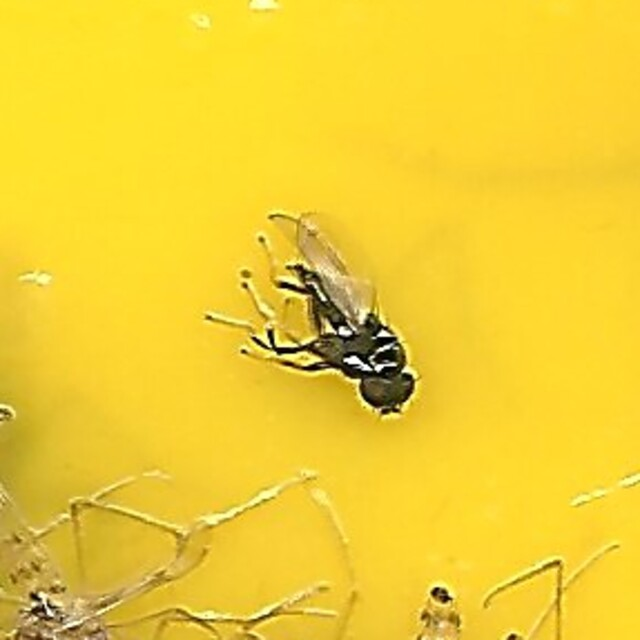Brachycera: (223, 211, 417, 429)
